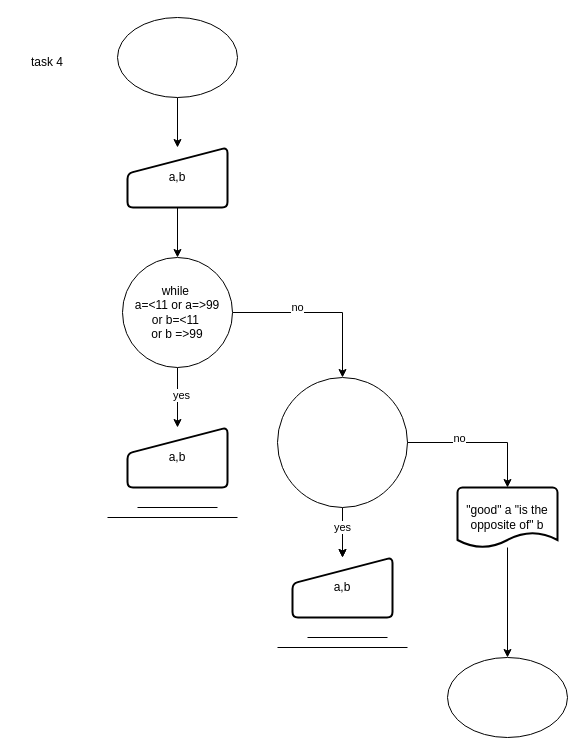
Image size: 585x755. Some labels were removed from this diagram. The shapes that lost their labels are listed below. From the top down, each one's box as (x1, y1, x2, y2) in pixels, then its label:
(116, 16, 238, 98): start
(276, 376, 408, 508): while a%10 != b\\10 and a\\10 != b%10
(446, 656, 568, 738): stop
